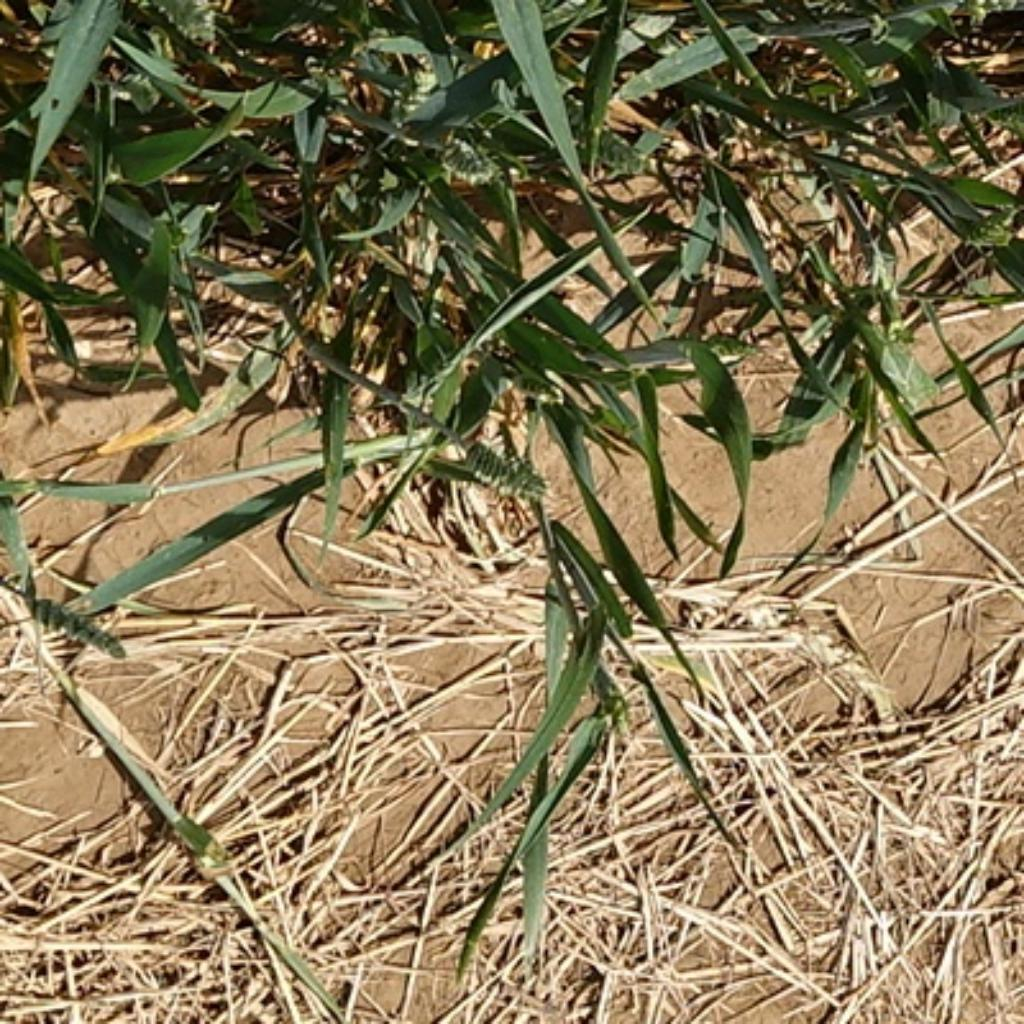0-0: (461, 432, 555, 519), (557, 104, 652, 186), (427, 122, 514, 192), (372, 45, 441, 122), (128, 0, 220, 46), (953, 203, 1024, 255)
